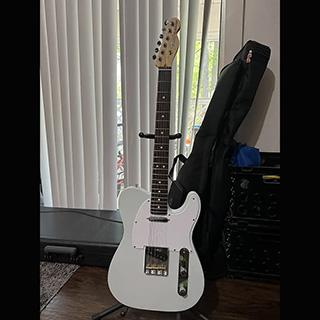Fender Telecaster: (105, 14, 208, 313)
SS: (144, 214, 172, 265)
